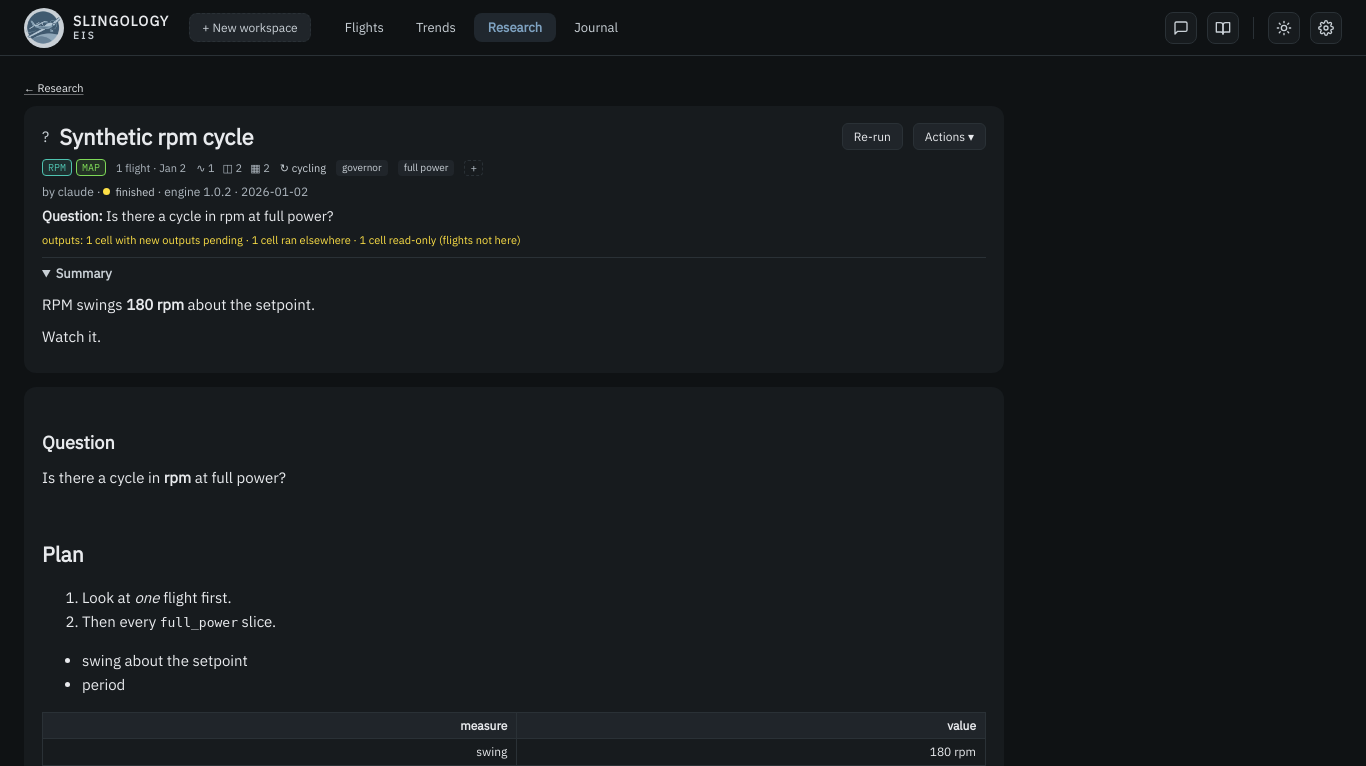
Test: the notebook on the Research page (§5.3) › with a bench: Re-run, Accept, Discard, keep outputs that ran elsewhere, export zip and html
This screenshot has width=1366, height=766.
Later steps or results of the test are not shown.
Click the button with test id "nb-rerun" at (872, 136), box x1=842 y1=123 x2=903 y2=150
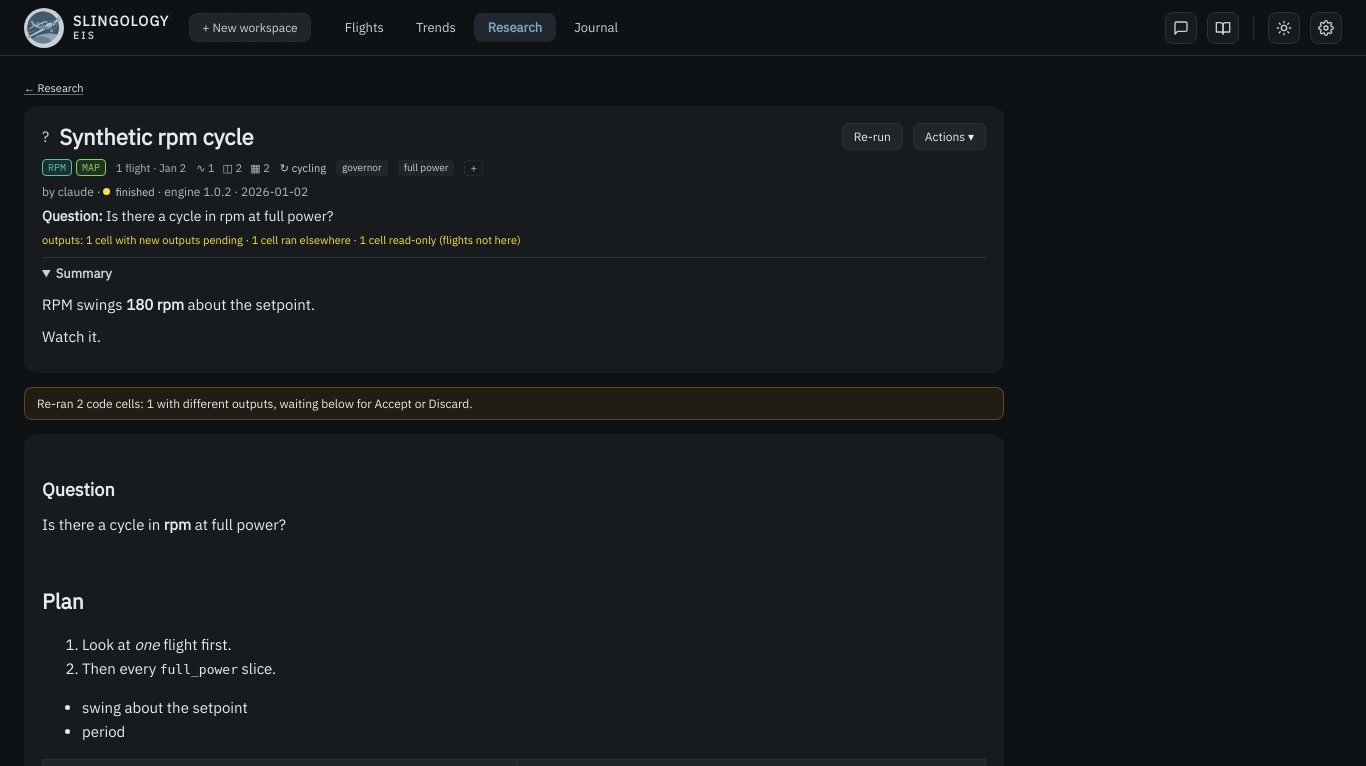
expect the text with test id "nb-notice" shows "Re-ran 2 code cells: 1 with different outputs": met, box x1=37 y1=396 x2=472 y2=411
